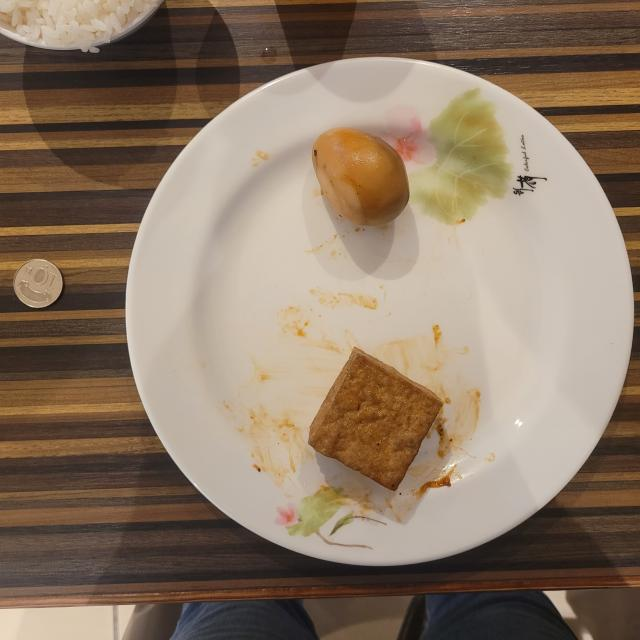coin: (14, 259, 62, 308)
egg tofu: (309, 348, 442, 490)
soy egg: (312, 128, 410, 226)
